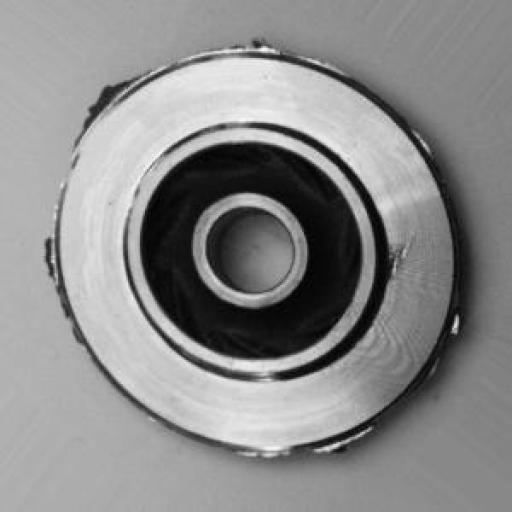defect: (34, 23, 481, 477)
